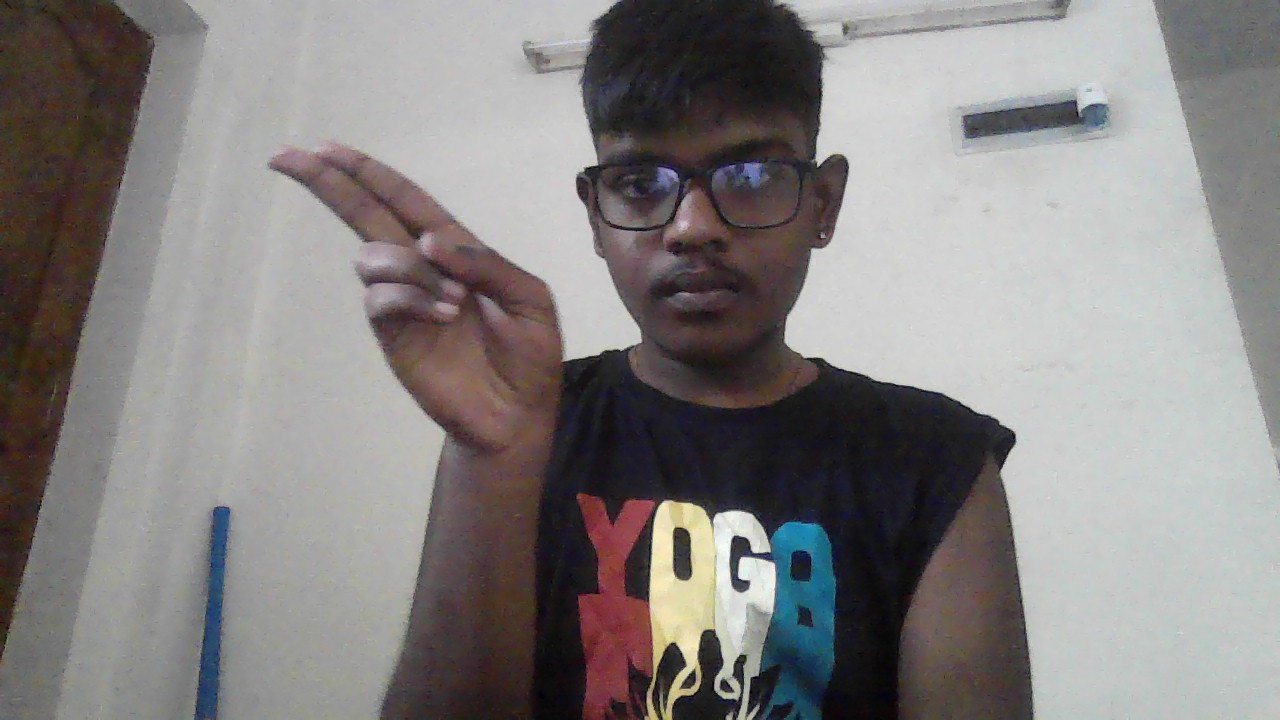H: (267, 136, 563, 450)
